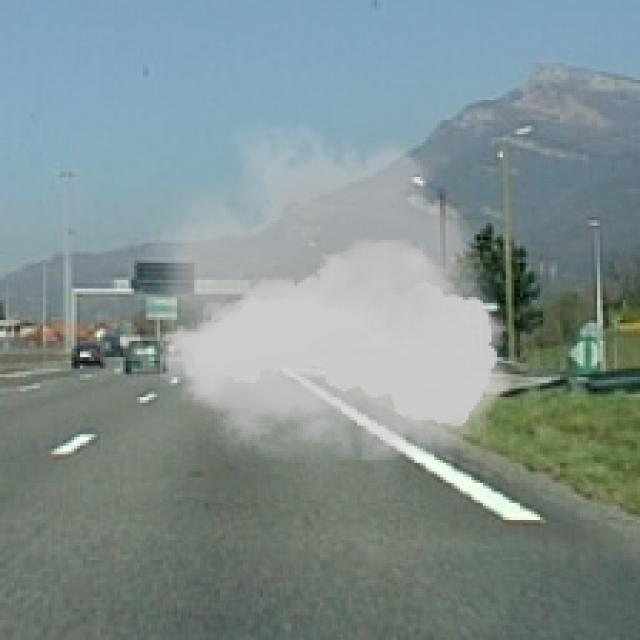Smoke: (134, 100, 523, 492)
